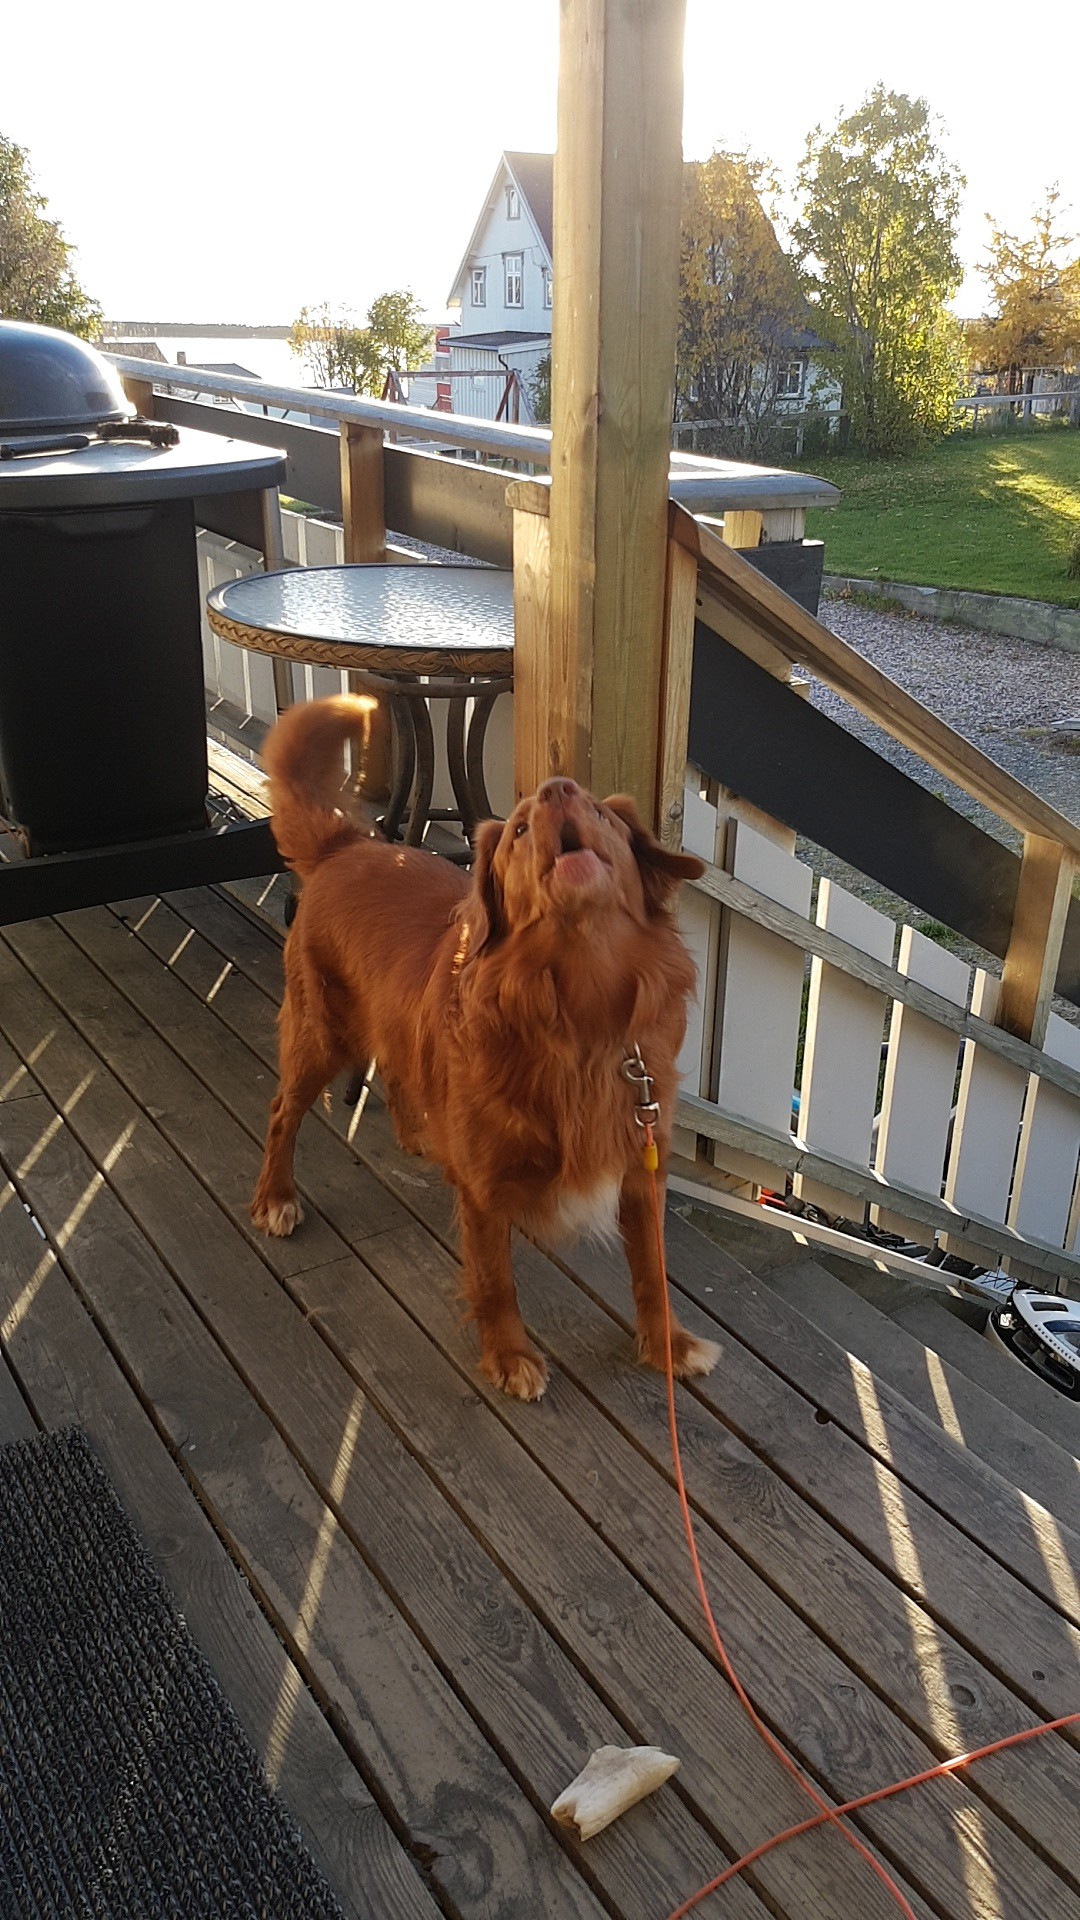dog: (256, 698, 758, 1379)
